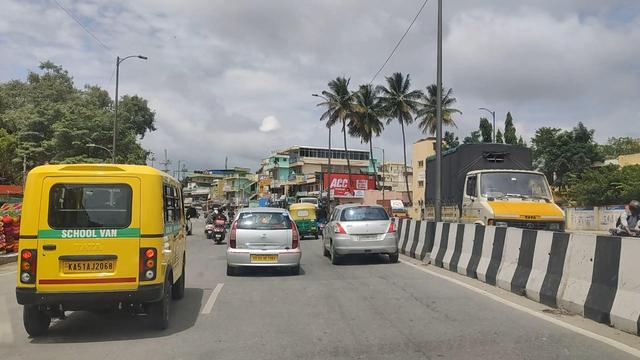LMV: (7, 132, 193, 338), (222, 198, 304, 284), (322, 193, 401, 269)
